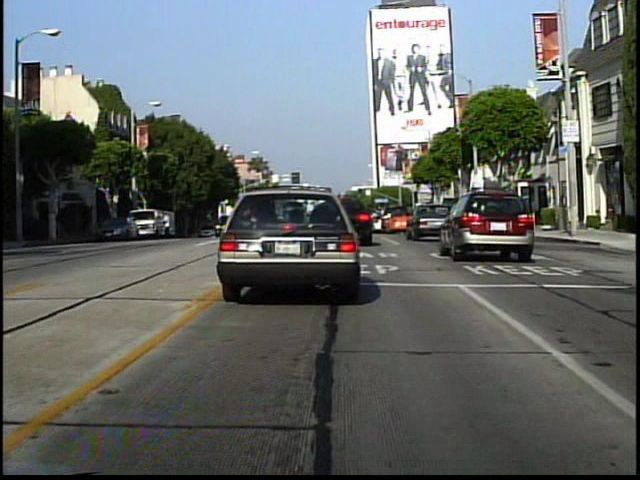person: (161, 209, 173, 242)
